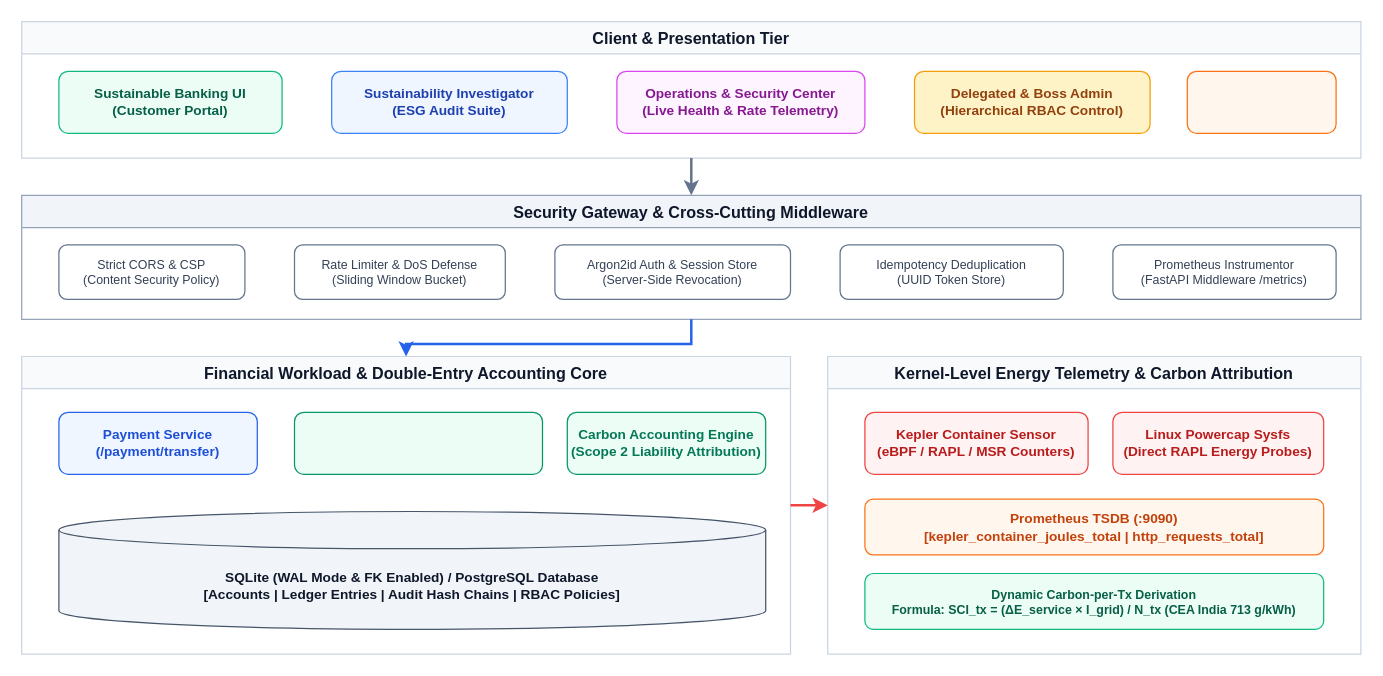
Some shapes in this 1383 by 676 pixel diagram are drawn without their labels. Each missing label, with the centre of its shape:
"Atomic Double-Entry Engine (Debit DR = Credit CR Invariant)" goes at (x=417, y=442).
"Grafana Dashboard (:8000/grafana & :3000)" goes at (x=1261, y=101).
